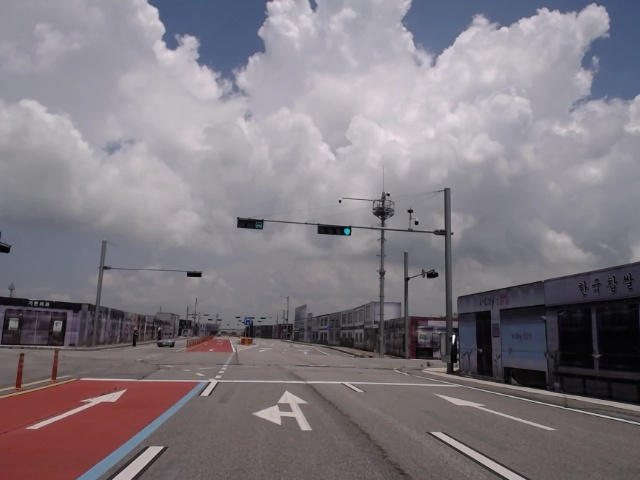straight_green_4: (317, 222, 353, 238)
